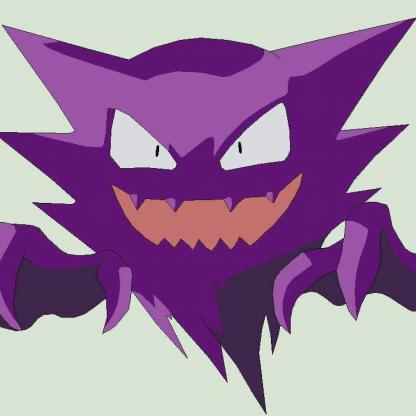Haunter: (1, 18, 416, 416)
